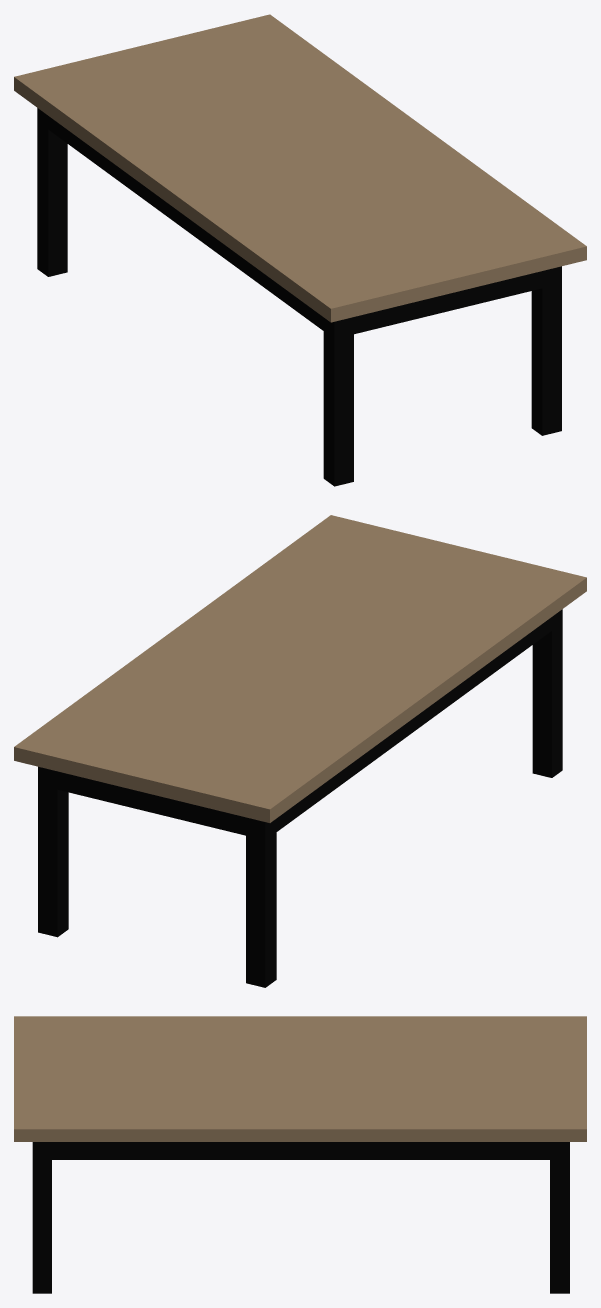
Rendered from Table2.fbx.
3 views of the same model, one above another, from view 1: azimuth 30°, elevation 25°; view 2: azimuth 150°, elevation 25°; view 3: azimuth 270°, elevation 25° (orthographic). The views are drawn at different scales.
Visible parts, largest first — view 1: Table2; view 2: Table2; view 3: Table2.
Boxes of the visible parts, x1,y1,x2,y2 form: Table2: (14,14,586,486); Table2: (14,515,586,987); Table2: (14,1016,586,1293).
Bounding box in the file's own units: 93.28 × 65.7 × 200.
